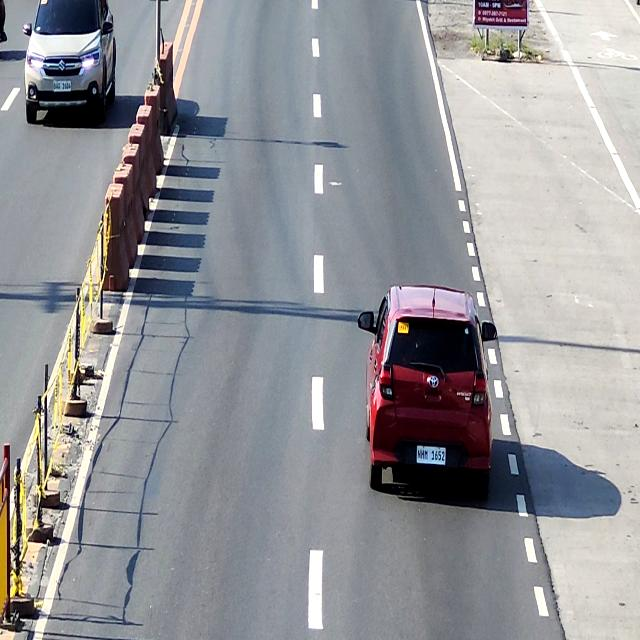Car: (358, 286, 497, 500), (22, 0, 116, 121)
License-Plate: (416, 446, 446, 466), (52, 80, 72, 93)
